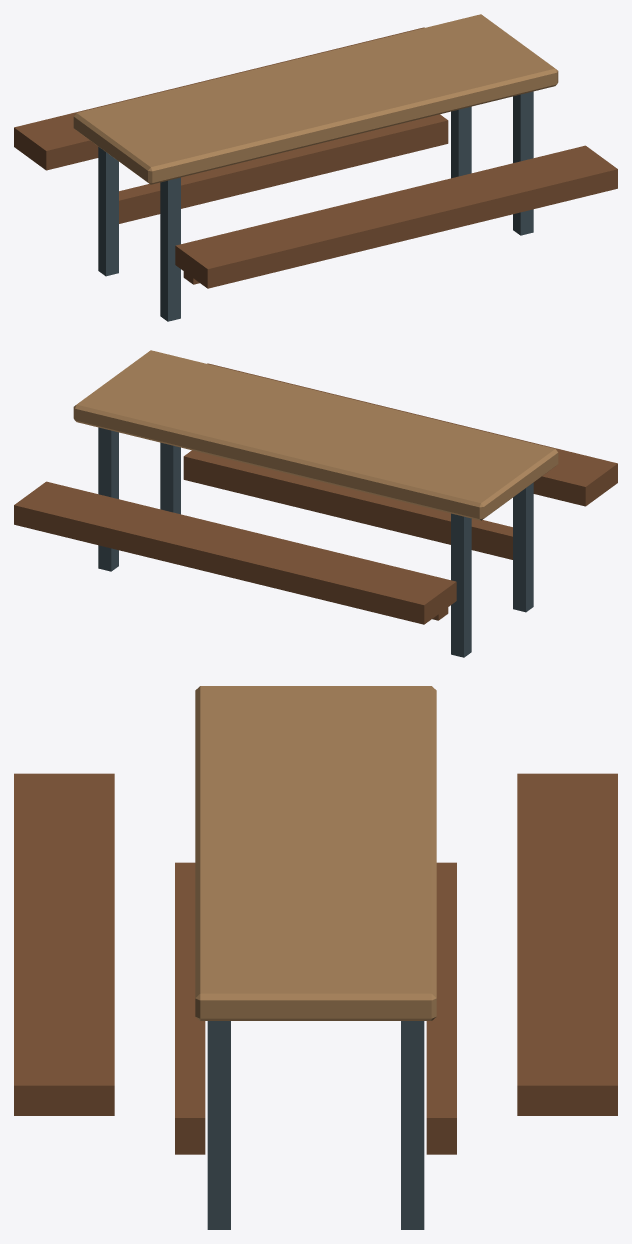
File: picnic_table.glb
The picture shows the model from 3 angles, top to bottom: view 1: azimuth 30°, elevation 25°; view 2: azimuth 150°, elevation 25°; view 3: azimuth 270°, elevation 25°; orthographic projection. The views are drawn at different scales.
Parts seen in each view (by area): view 1: picnic_table; view 2: picnic_table; view 3: picnic_table.
Boxes of the visible parts, x1=… form: picnic_table: x1=14, y1=14, x2=617, y2=321; picnic_table: x1=14, y1=350, x2=617, y2=657; picnic_table: x1=14, y1=686, x2=617, y2=1229.
Size of the model in its own units: 2.2 by 0.825 by 1.8.
